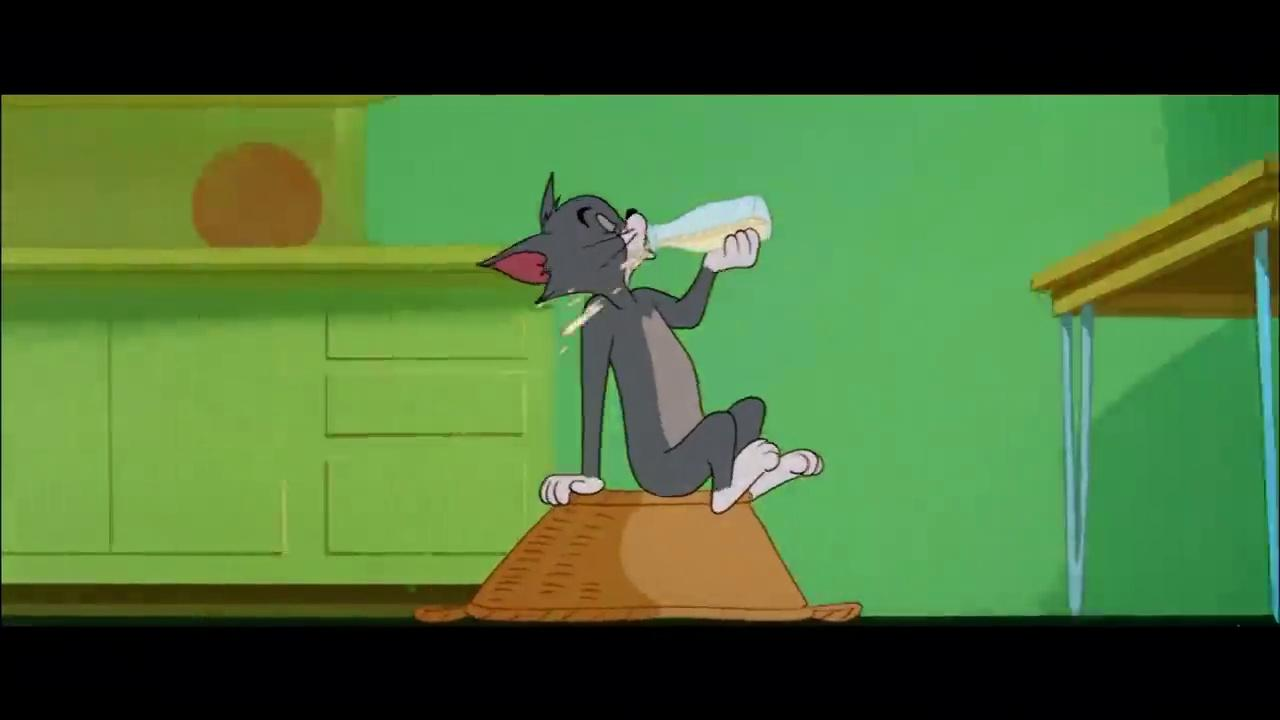Tom: (474, 168, 826, 515)
